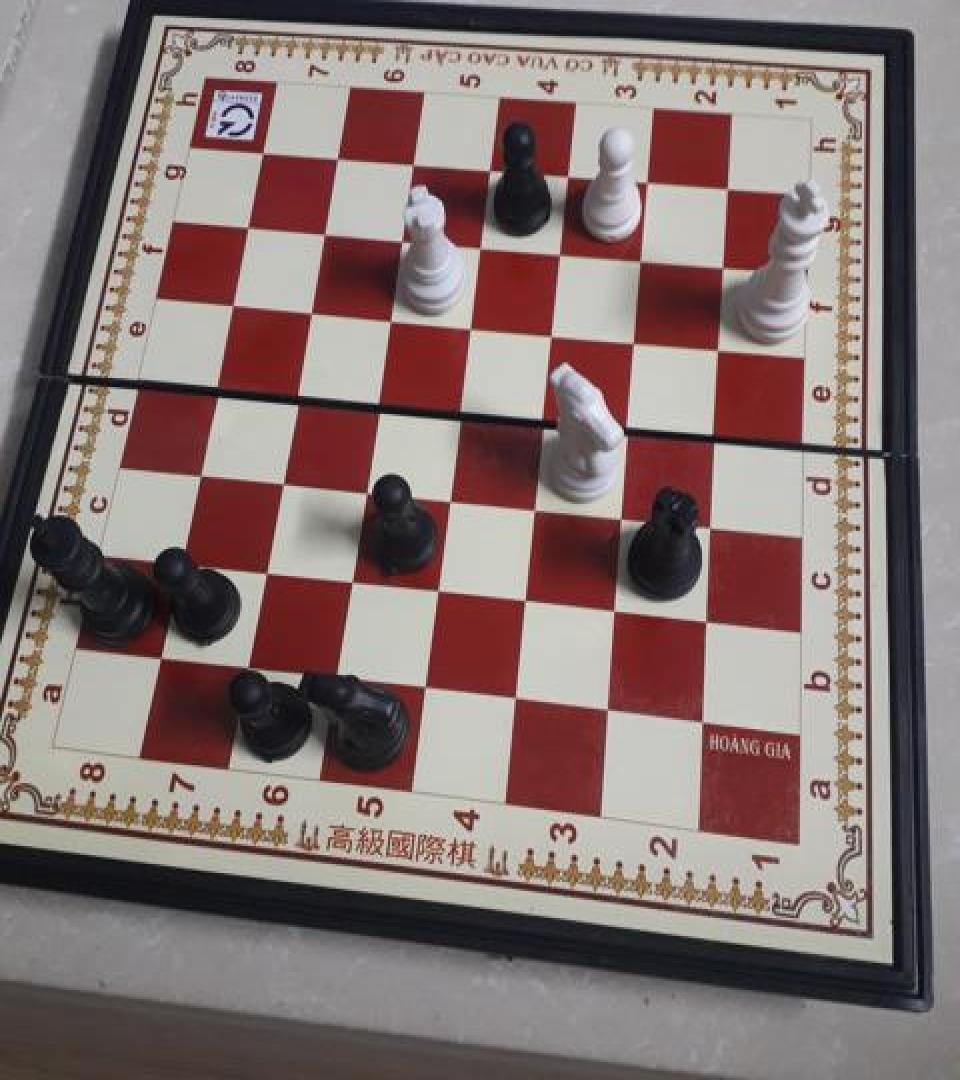xcorner: (326, 139, 356, 174), (150, 636, 180, 670), (236, 647, 266, 681), (323, 658, 353, 692), (412, 668, 442, 702), (502, 680, 532, 714), (594, 690, 624, 724), (687, 702, 717, 736), (169, 541, 199, 575), (253, 550, 283, 584), (338, 560, 368, 594), (424, 569, 454, 603), (512, 579, 542, 613), (601, 590, 631, 624), (692, 600, 722, 634), (188, 451, 218, 485), (269, 459, 299, 493), (352, 468, 382, 502), (436, 476, 466, 510), (521, 485, 551, 519), (608, 494, 638, 528), (696, 503, 726, 537), (205, 366, 235, 400), (284, 372, 314, 406), (365, 380, 395, 414), (447, 388, 477, 422), (530, 396, 560, 430), (614, 404, 644, 438), (700, 412, 730, 446), (222, 284, 252, 318), (299, 291, 329, 325), (378, 298, 408, 332), (457, 305, 487, 339), (704, 326, 734, 360), (237, 207, 267, 241), (313, 214, 343, 248), (389, 219, 419, 253), (467, 226, 497, 260), (546, 232, 576, 266), (626, 238, 656, 272), (707, 245, 737, 279), (252, 134, 282, 168), (401, 145, 431, 179), (476, 150, 506, 184), (553, 156, 583, 190), (631, 162, 661, 196), (710, 168, 740, 202), (538, 312, 568, 345), (620, 320, 650, 353)
